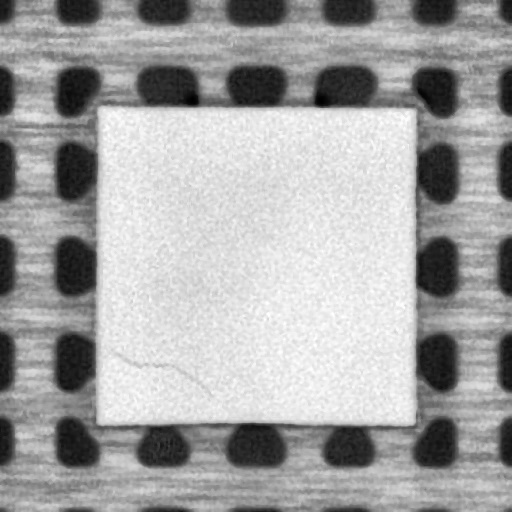DIE_CRACK: (116, 351, 212, 396)
